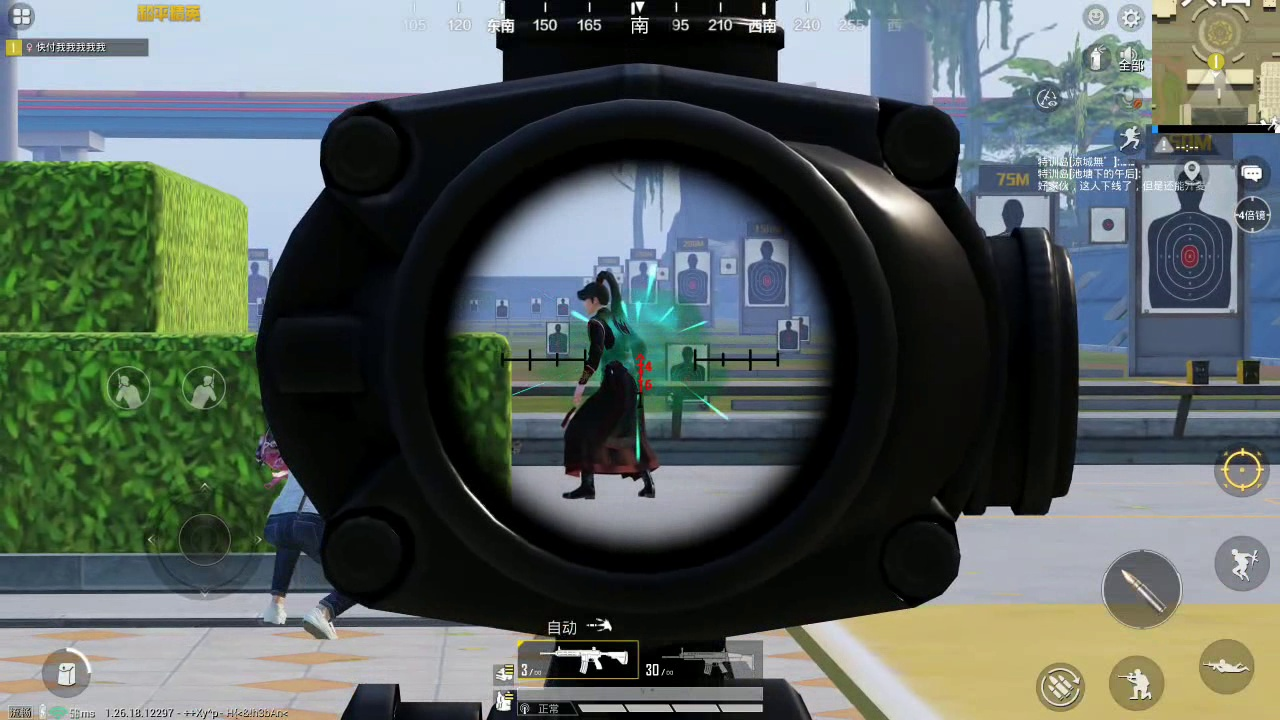enemy: (564, 272, 657, 498), (259, 431, 360, 639)
